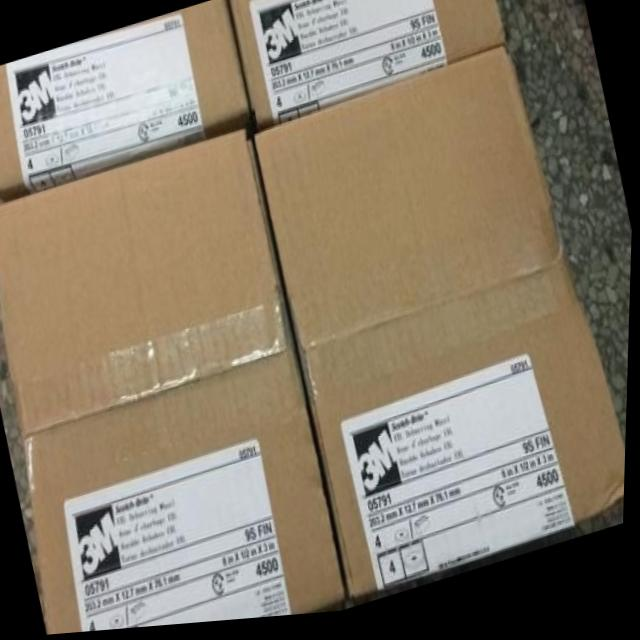box: (302, 269, 628, 606), (255, 51, 567, 359), (0, 128, 296, 438), (28, 352, 348, 636), (0, 1, 255, 201), (227, 0, 507, 135)
